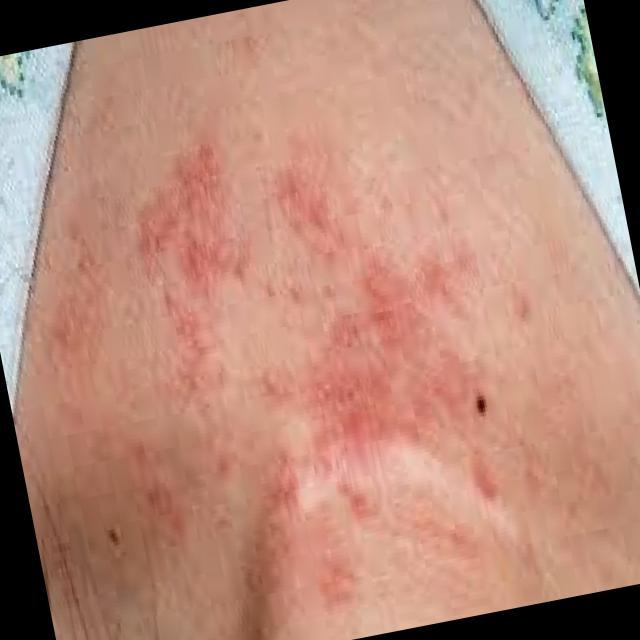Eczema: (44, 170, 501, 598)
